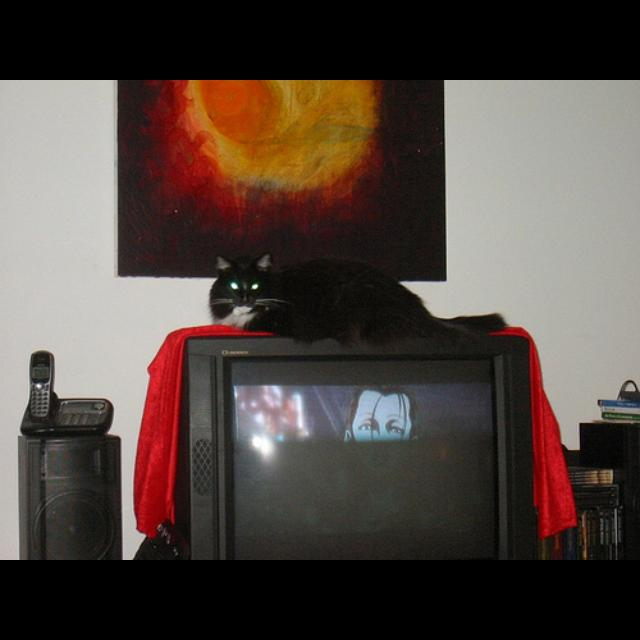Flat-Panel-TV: (172, 335, 544, 554)
